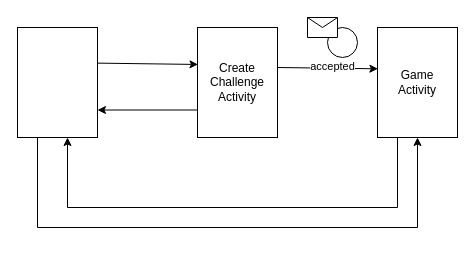
This 475x253 diagram has some shape labels left out. Each missing label, with the centre of its shape:
"Challenges List Activity" goes at pixel 57 82.
"dto" goes at pixel 342 42.
